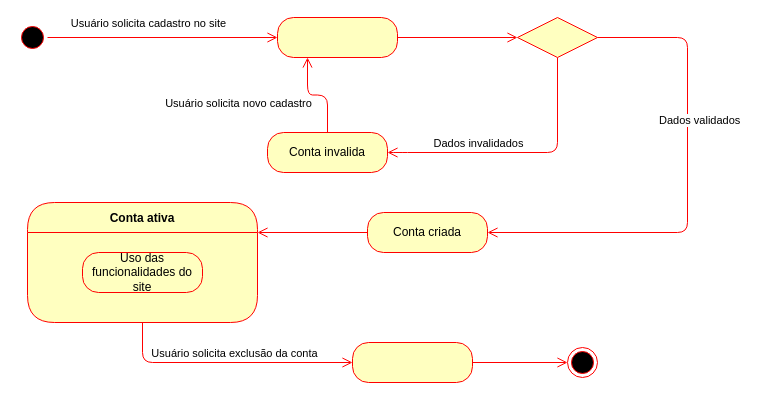
The diagram is 758 pixels wide and 401 high, and some of its shapes have lost their labels. The shapes that lost their labels are listed below. From the top down, each one's centre as x and y in pixels, then its label:
At [337,37]: "Preenchimento de dados da conta".
At [412,362]: "Conta excluida".
